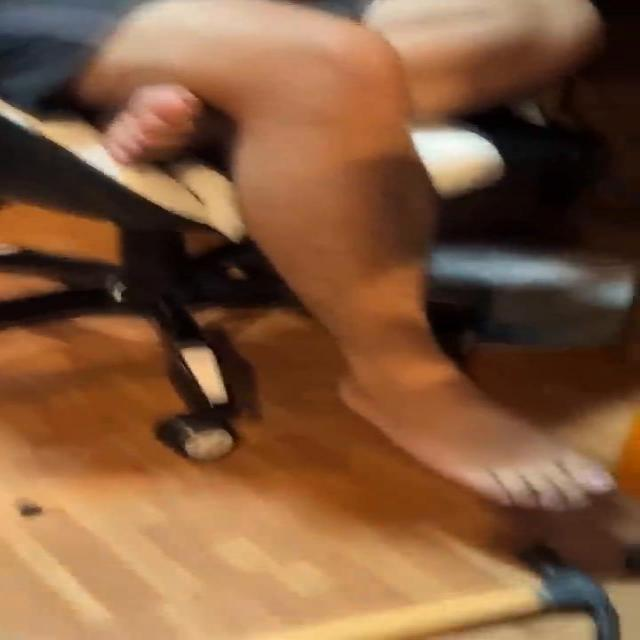hammer: (252, 546, 624, 640)
